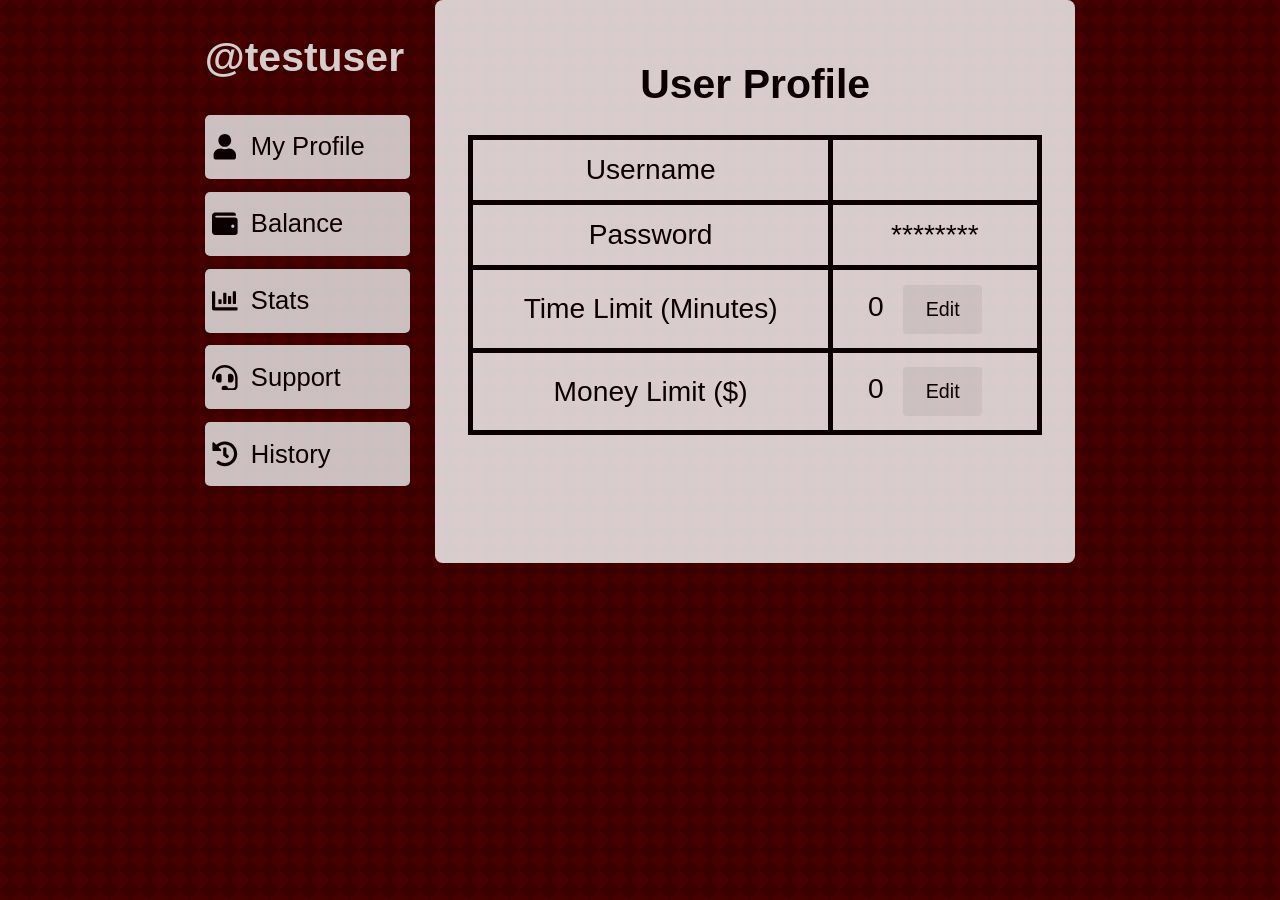
Profile Component Integration Tests › switches to the Stats panel when the Stats button is clicked
Note: Click the Stats button
Click the button "Stats" at (307, 301), box [205,269,410,333]
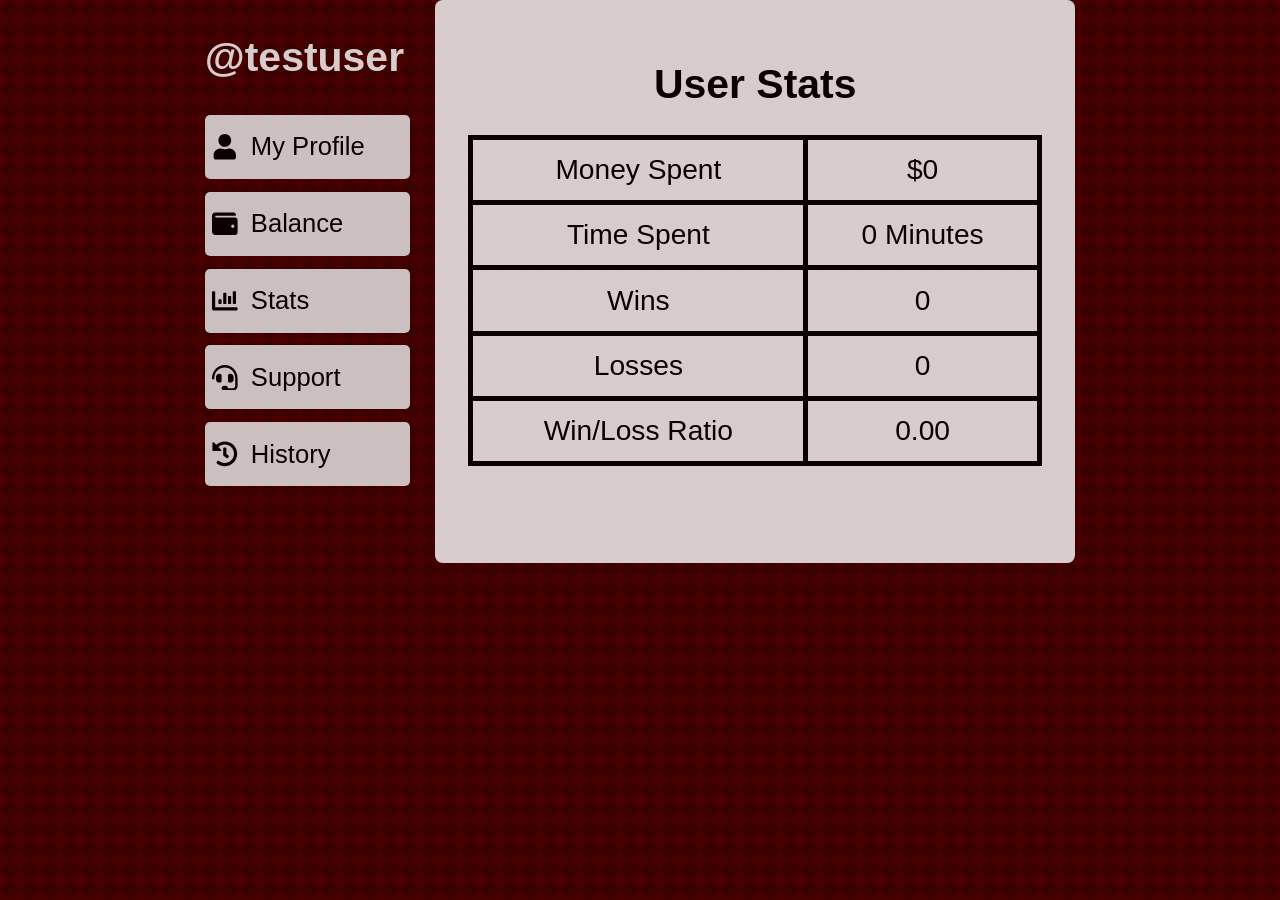
Now the heading "User Stats" is shown, box [654,61,856,107]
